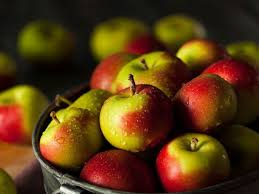apple: (103, 84, 176, 153), (157, 138, 238, 191), (180, 72, 242, 133), (42, 112, 109, 163), (1, 87, 54, 145), (119, 55, 191, 97), (84, 150, 149, 194), (87, 55, 141, 95), (175, 37, 231, 71), (203, 59, 252, 91)
